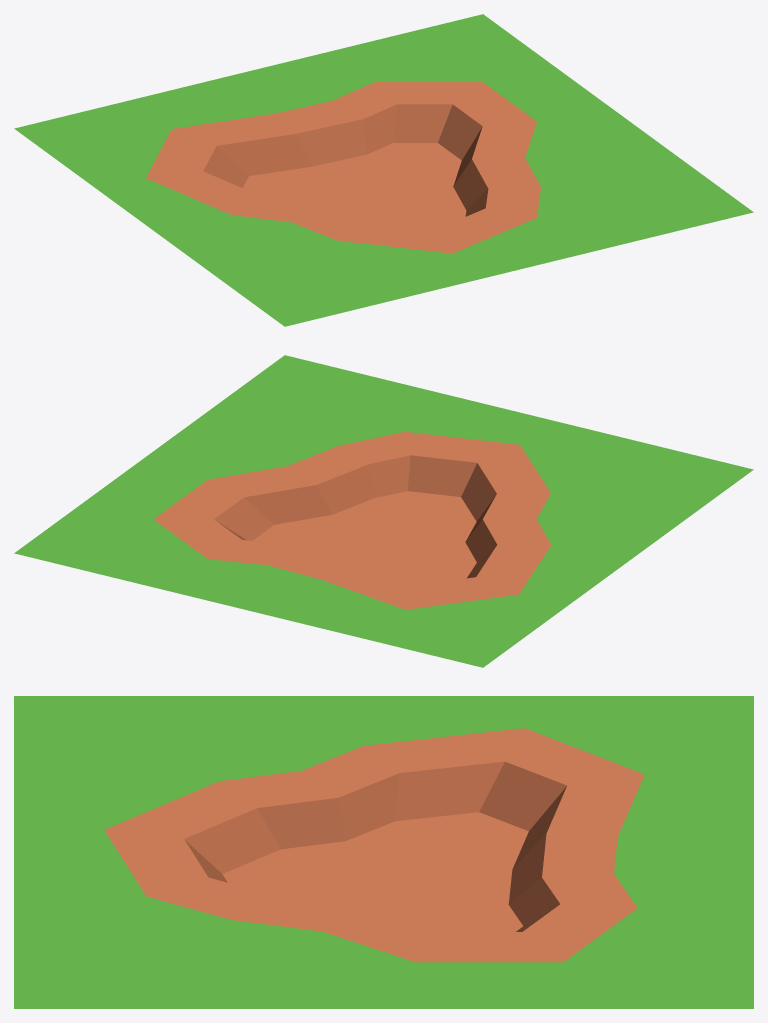
File: ground_pathTile.glb
3 views of the same model, one above another, from view 1: azimuth 30°, elevation 25°; view 2: azimuth 150°, elevation 25°; view 3: azimuth 270°, elevation 25° (orthographic). The views are drawn at different scales.
Visible parts, largest first — view 1: ground_pathTile; view 2: ground_pathTile; view 3: ground_pathTile.
Part boxes in pixels (box(x1,y1,x2,y2)): ground_pathTile: box(14, 14, 753, 326); ground_pathTile: box(14, 355, 753, 667); ground_pathTile: box(14, 696, 753, 1008).
Bounding box in the file's own units: 1 × 0.05 × 1.
